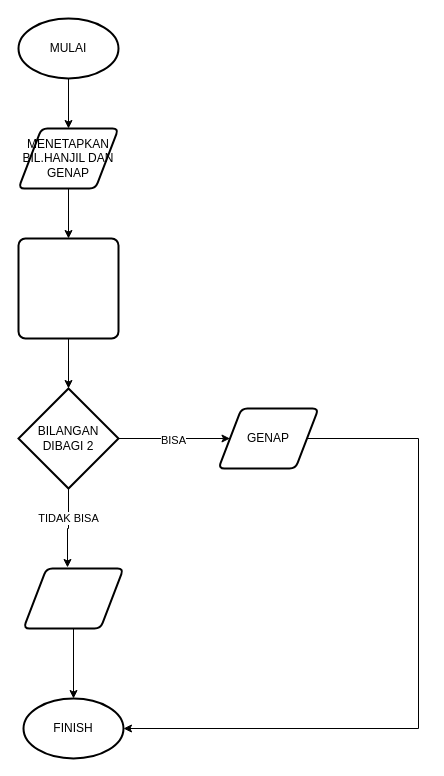
Image size: 444x776. Some labels were removed from this diagram. The shapes that lost their labels are listed below. From the top down, each one's centre as x and y in pixels, then its label:
At (68,288): "DIBAGI 2".
At (73,598): "GANJIL".
